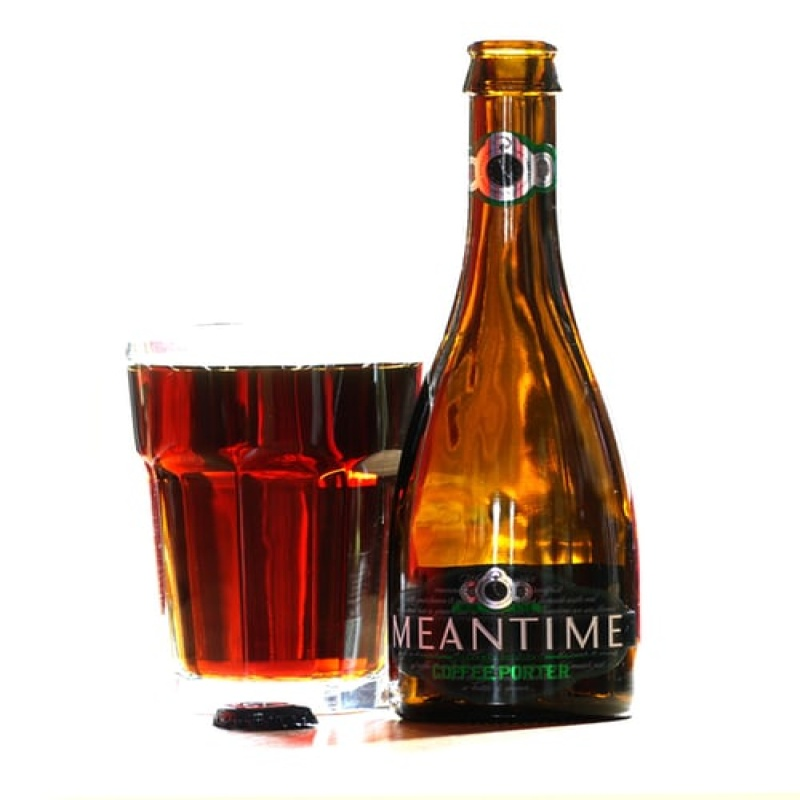wine: (402, 38, 636, 710)
